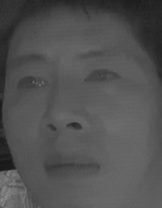eye: (83, 66, 122, 89), (12, 73, 50, 95)
mouth: (40, 146, 102, 184)
